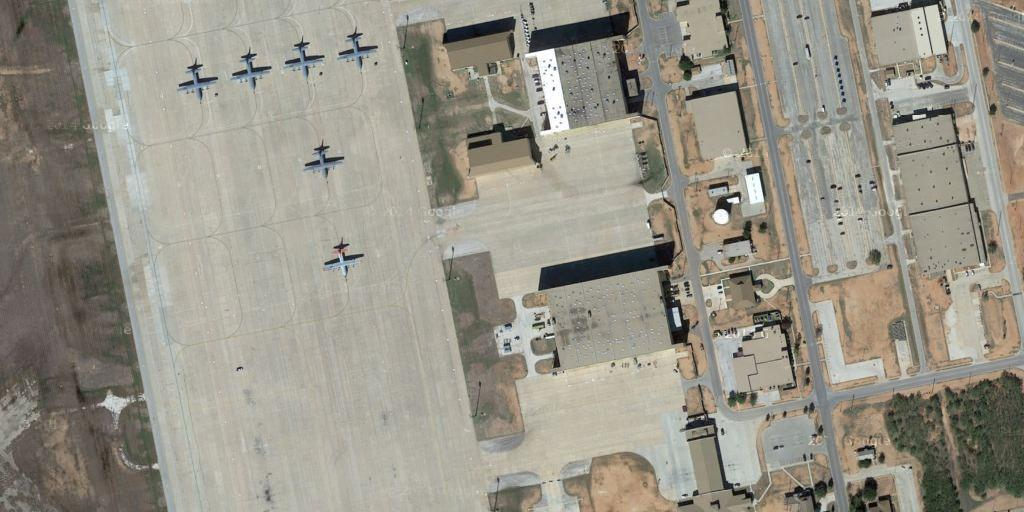C-130: (283, 44, 328, 84), (229, 52, 271, 91), (335, 33, 377, 72), (175, 65, 218, 103), (324, 246, 362, 280), (304, 145, 343, 177)
